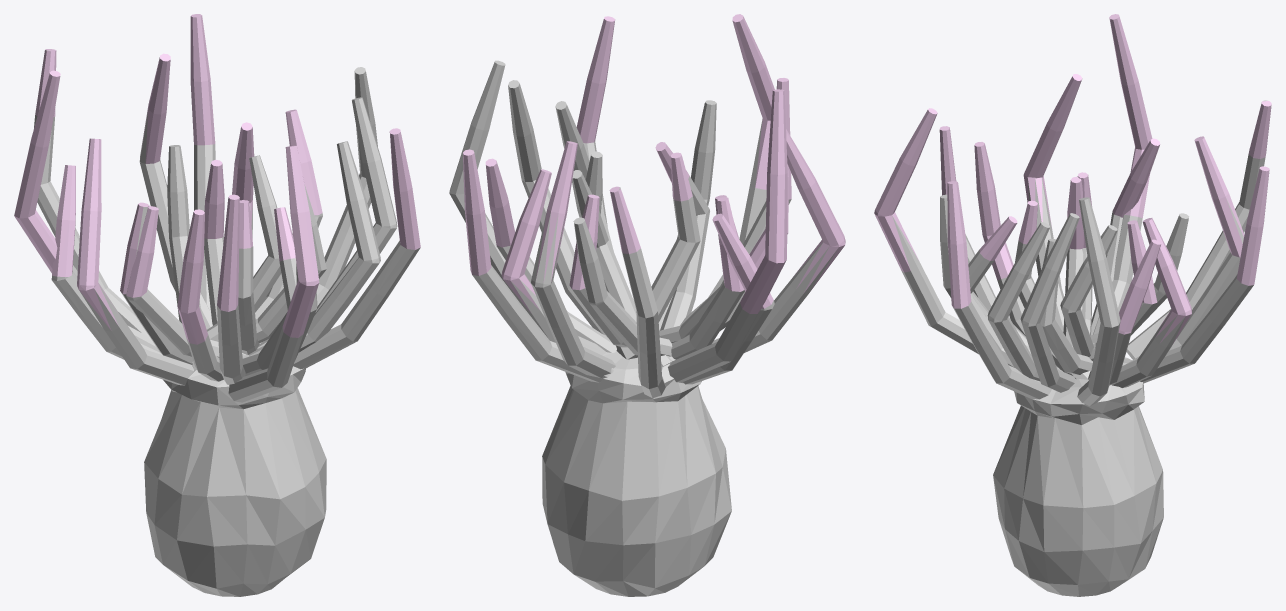
Rendered from sea-coral.glb.
3 views of the same model, side by side, from view 1: azimuth 30°, elevation 25°; view 2: azimuth 150°, elevation 25°; view 3: azimuth 270°, elevation 25° (orthographic). The views are drawn at different scales.
Visible parts, largest first — view 1: body, leaf2, leaf1; view 2: body, leaf2, leaf1; view 3: body, leaf2, leaf1.
Boxes of the visible parts, box(x1,y1,x2,y2) form: body: box(34, 50, 420, 596); leaf2: box(35, 14, 420, 344); leaf1: box(14, 70, 118, 330); body: box(449, 60, 837, 596); leaf2: box(463, 14, 791, 313); leaf1: box(712, 89, 845, 313); body: box(892, 100, 1267, 596); leaf2: box(874, 101, 1271, 344); leaf1: box(1023, 14, 1160, 227).
Size of the model in its own units: 5.01 by 7.32 by 5.38.
2 materials, 1 textured.
